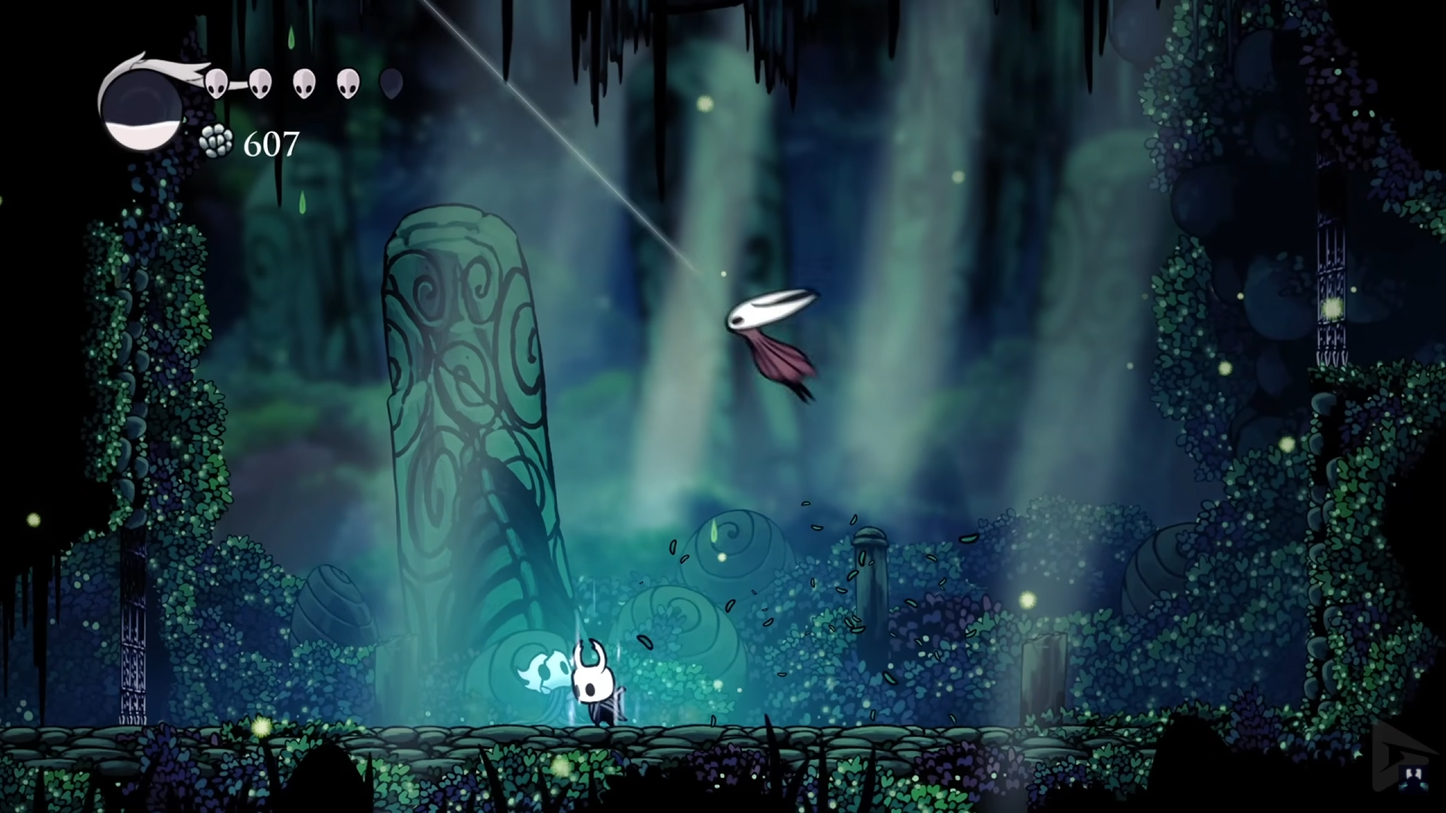HK: (565, 636, 628, 727)
